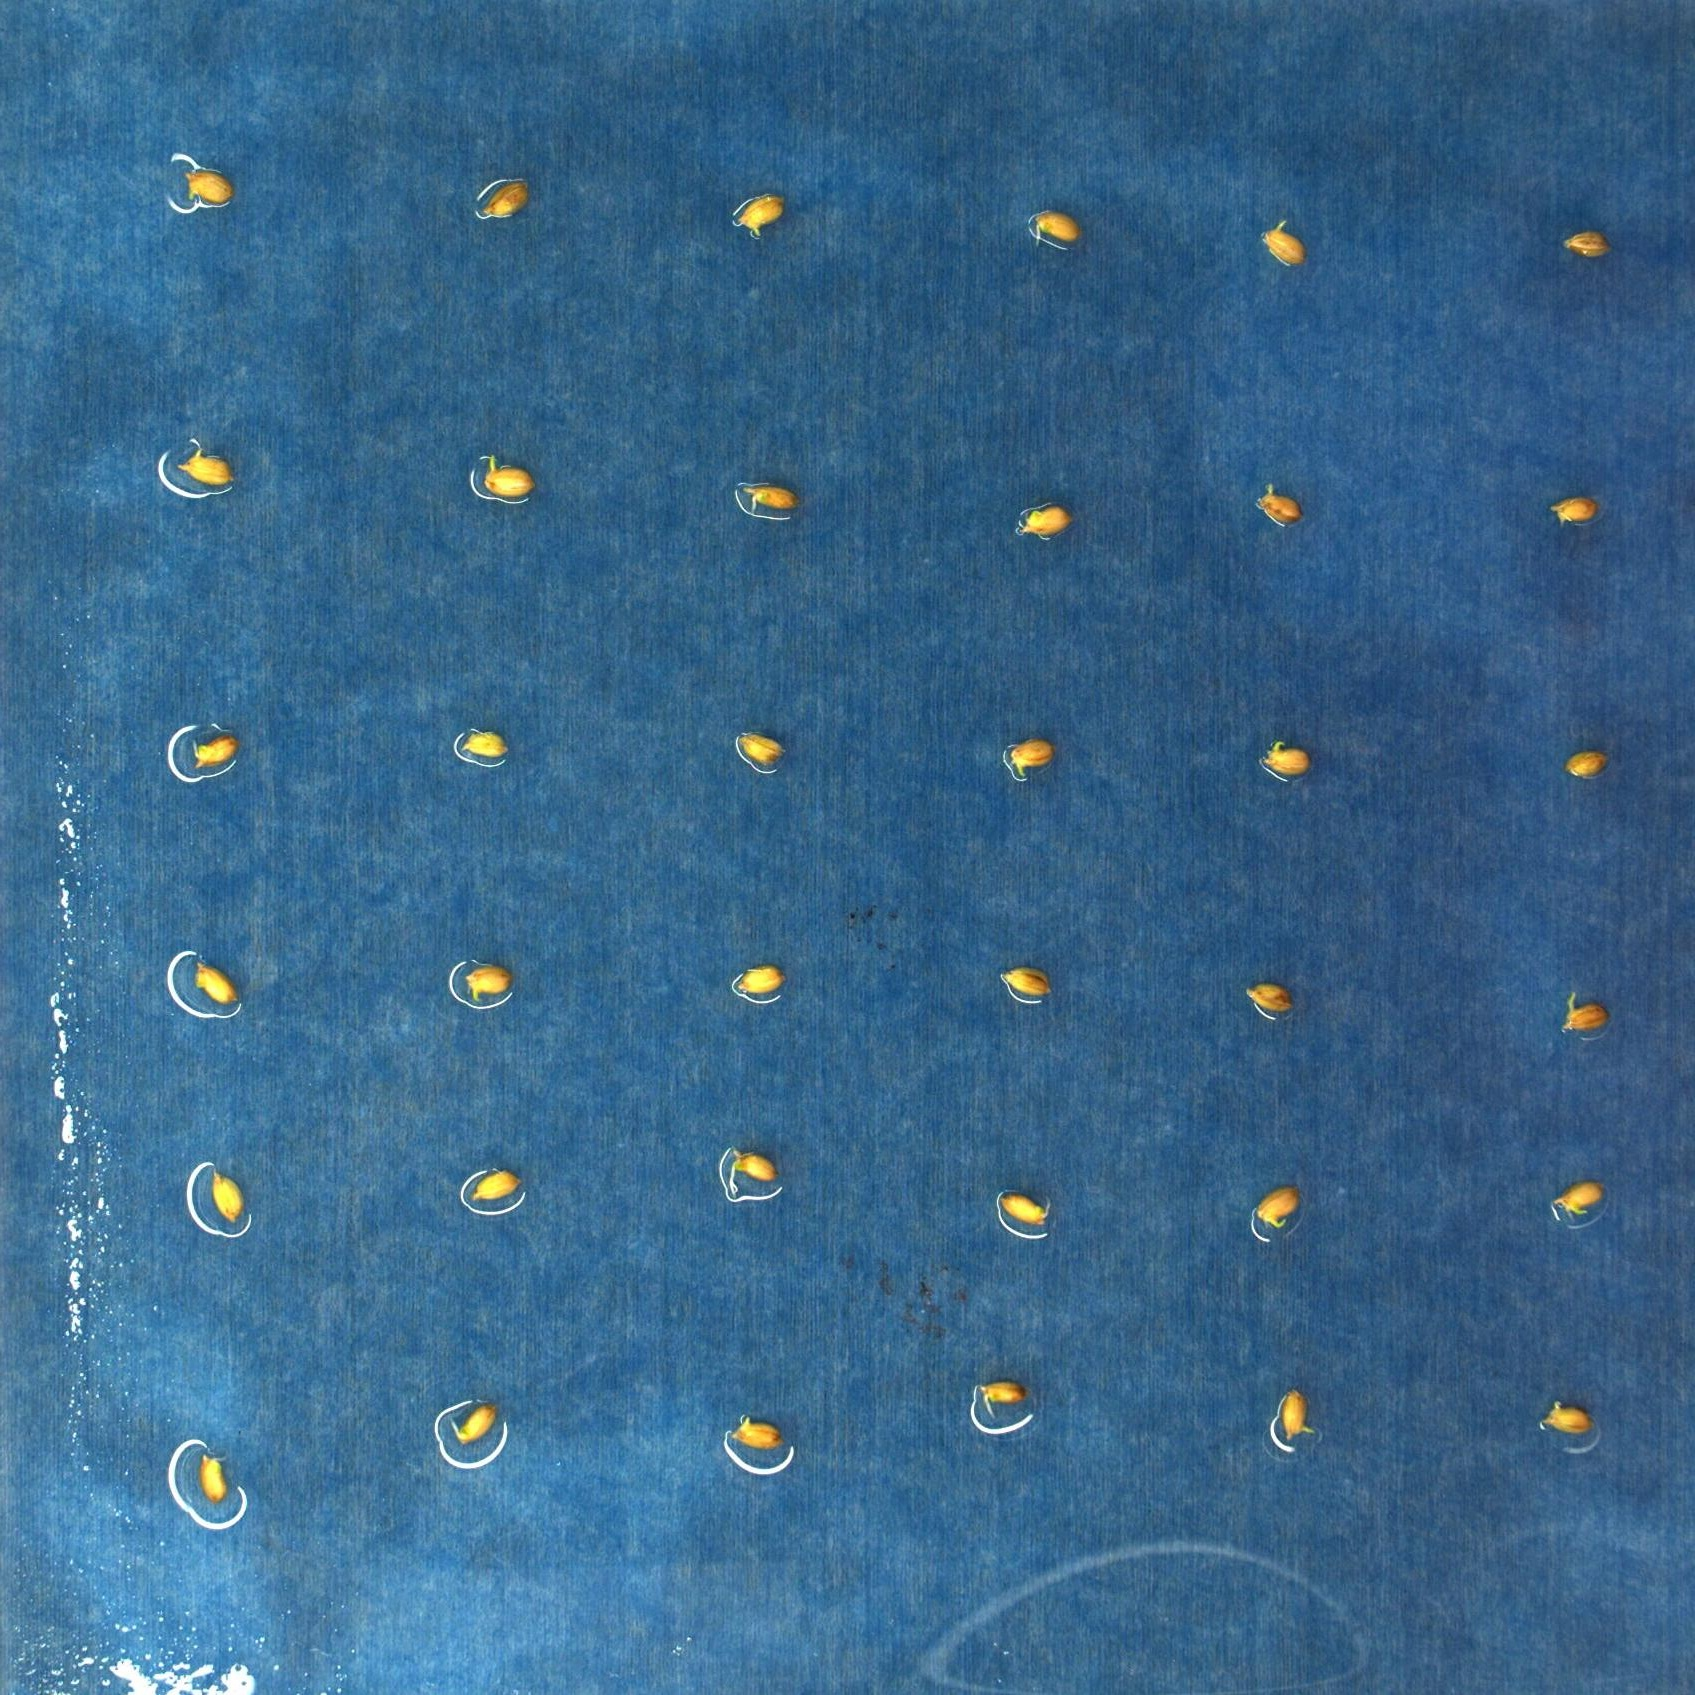not sprout: (179, 438, 239, 490), (726, 1144, 781, 1201), (1551, 1177, 1610, 1222), (728, 1409, 789, 1450), (484, 453, 540, 497), (194, 956, 241, 1004), (1281, 1385, 1319, 1440), (1565, 987, 1610, 1035), (1254, 1184, 1302, 1229), (1256, 481, 1305, 525), (1260, 739, 1315, 778), (1000, 1187, 1054, 1226), (976, 1375, 1031, 1414), (1262, 219, 1307, 265), (452, 1402, 498, 1447), (1010, 734, 1059, 778), (185, 161, 234, 203), (736, 728, 789, 767), (1034, 205, 1082, 247), (1018, 501, 1073, 537), (739, 192, 790, 230), (210, 1167, 242, 1225), (470, 1167, 525, 1201), (197, 1451, 231, 1506), (189, 731, 239, 768), (1245, 979, 1298, 1014), (1541, 1399, 1594, 1433), (742, 483, 802, 512), (466, 964, 515, 1000), (484, 177, 529, 216), (734, 964, 787, 997), (1551, 494, 1602, 525), (1003, 965, 1054, 997), (463, 728, 508, 759), (1565, 750, 1614, 778), (1565, 227, 1611, 256)
